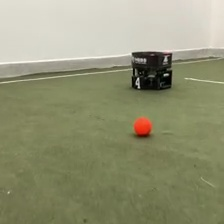ball: (133, 115, 153, 137)
robot: (129, 50, 174, 90)
